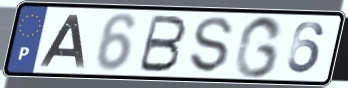6: (92, 10, 140, 75), (286, 20, 326, 76)
A: (37, 13, 87, 70)
B: (135, 13, 189, 74)
G: (232, 14, 285, 80)
S: (188, 15, 236, 76)
